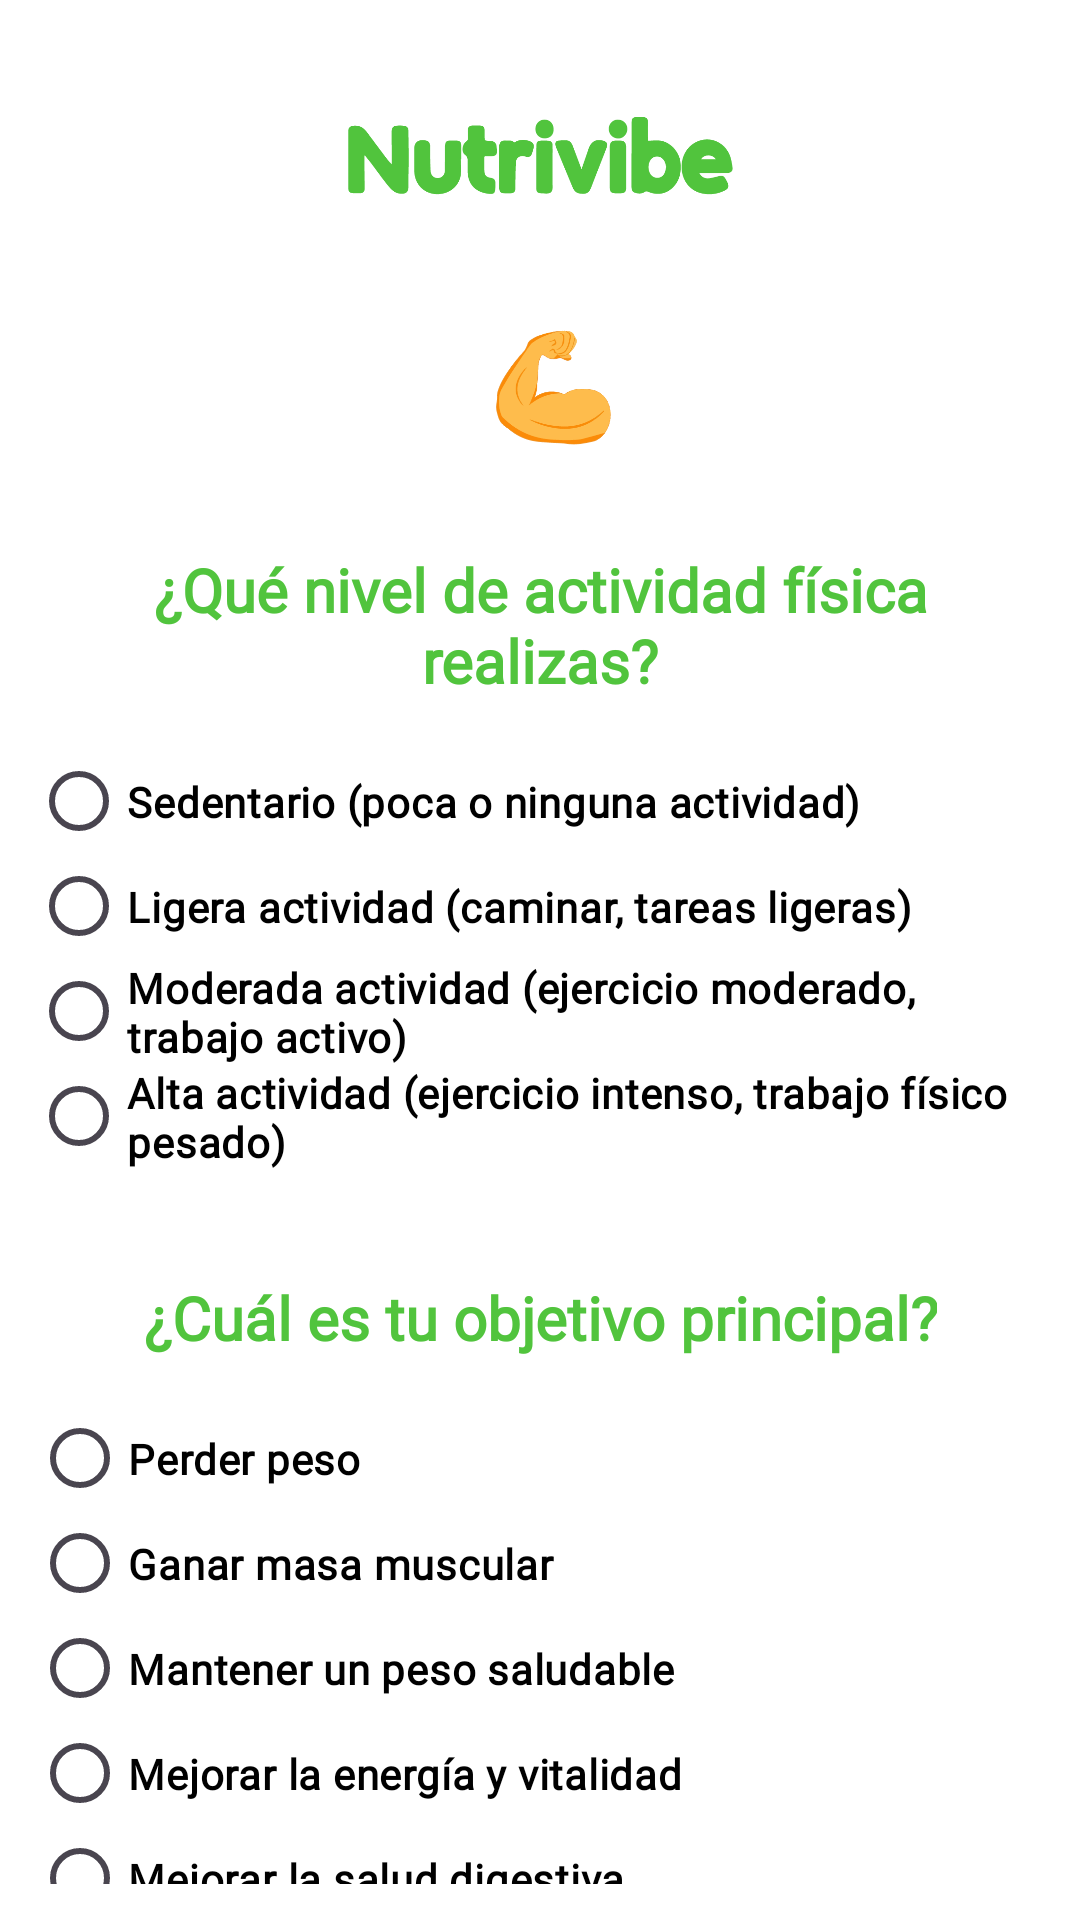

Locate icon controls on the screen. Image size 1080w x 1920h, boxes as [x1=x1, y1=y1, x2=x2, y2=y2].
iconofuerza: [x1=496, y1=330, x2=611, y2=445]
